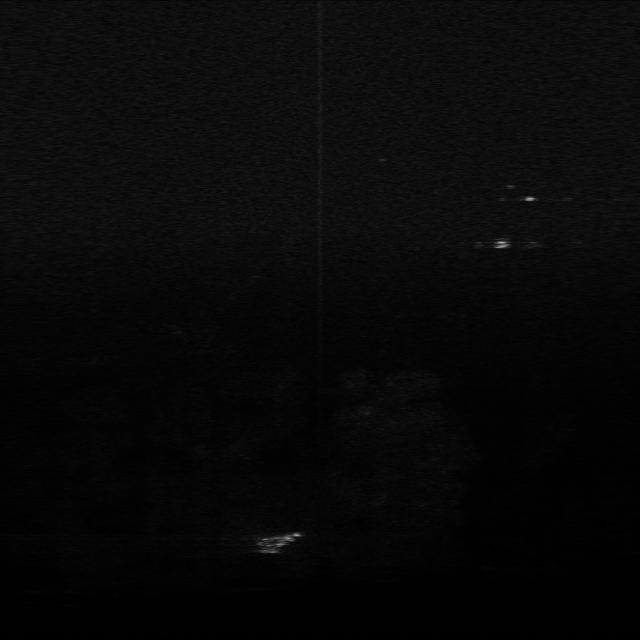rov: (489, 236, 517, 253)
